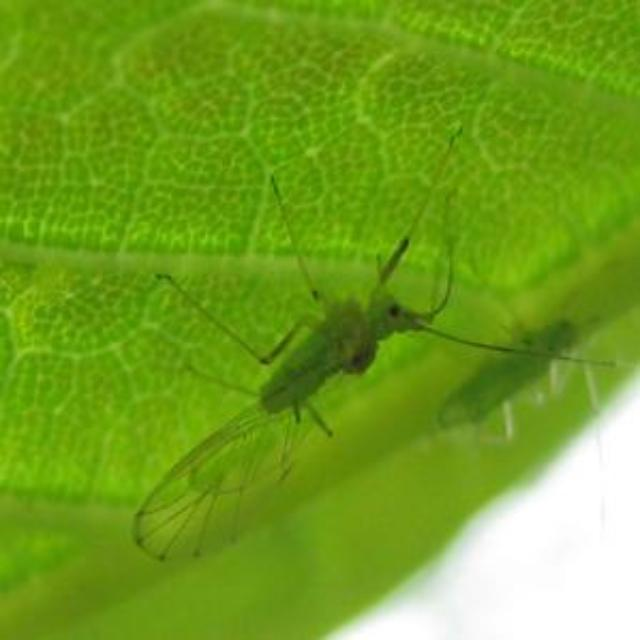Green peach aphid: (39, 83, 594, 607)
